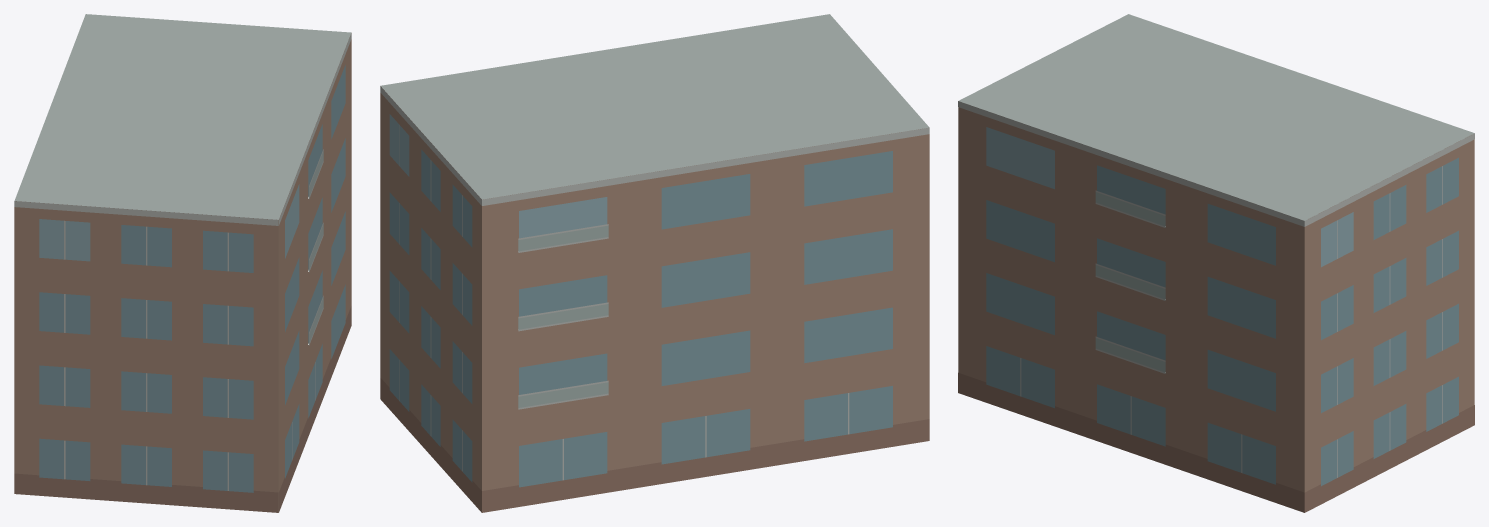
The model's file is survey-upis-32883337.glb.
3 renders of one model, left to right at view 1: azimuth 30°, elevation 25°; view 2: azimuth 150°, elevation 25°; view 3: azimuth 270°, elevation 25°, orthographic. The views are drawn at different scales.
Visible parts, largest first — view 1: survey-upis-32883337.tmp; view 2: survey-upis-32883337.tmp; view 3: survey-upis-32883337.tmp.
Boxes of the visible parts, box(x1,y1,x2,y2) form: survey-upis-32883337.tmp: box(14, 14, 351, 512); survey-upis-32883337.tmp: box(380, 14, 929, 512); survey-upis-32883337.tmp: box(958, 14, 1474, 512).
Bounding box in the file's own units: 17.79 × 11.7 × 18.77.
